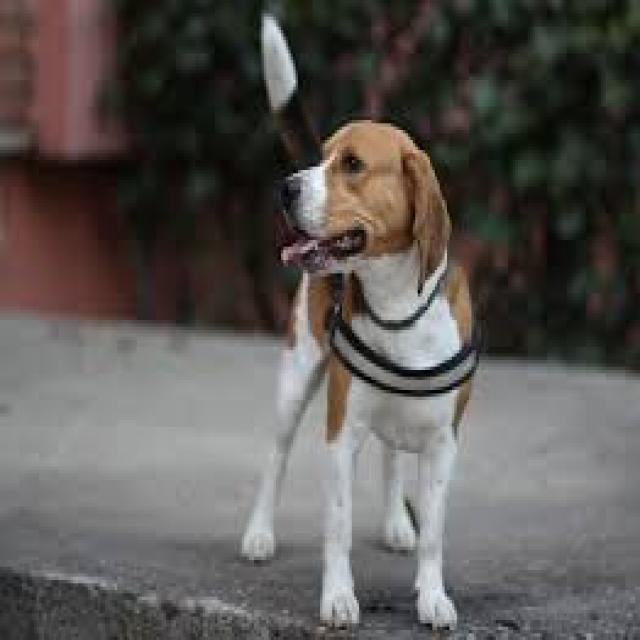Dog: (237, 12, 480, 633)
